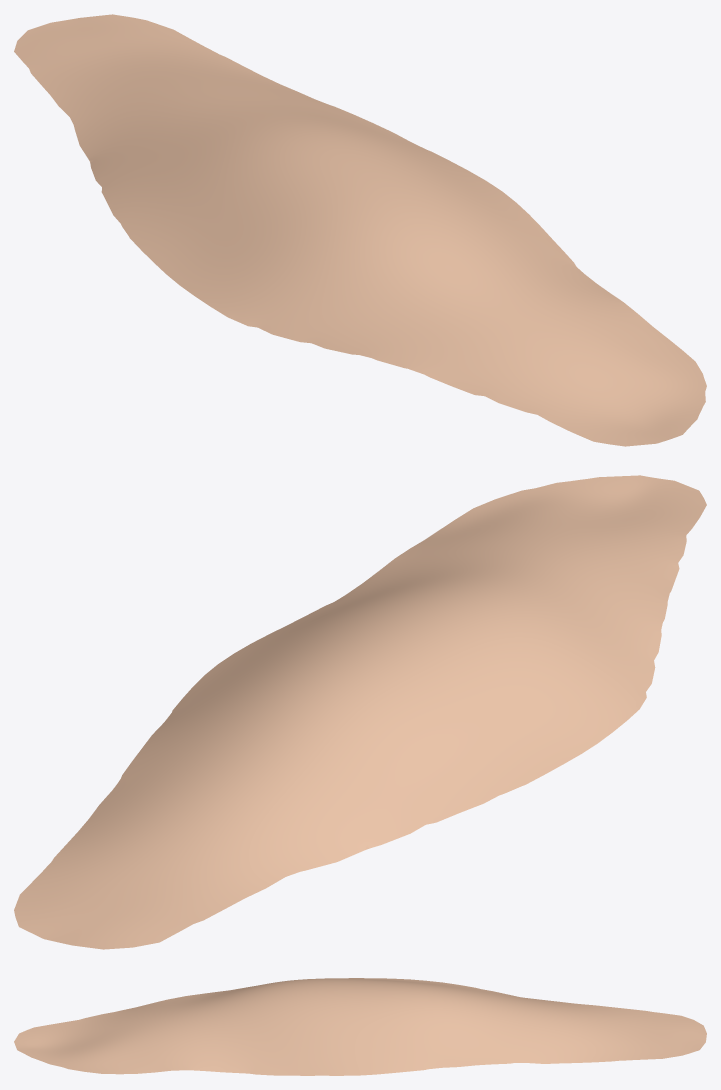
File: Stage_2.glb
3 views of the same model, one above another, from view 1: azimuth 30°, elevation 25°; view 2: azimuth 150°, elevation 25°; view 3: azimuth 270°, elevation 25° (orthographic). The views are drawn at different scales.
Parts seen in each view (by area): view 1: Stage2; view 2: Stage2; view 3: Stage2.
Boxes of the visible parts, <box> form: Stage2: <box>14,14,706,446</box>; Stage2: <box>14,475,706,949</box>; Stage2: <box>14,978,706,1075</box>.
Bounding box in the file's own units: 0.5887 × 0.1193 × 1.76.
